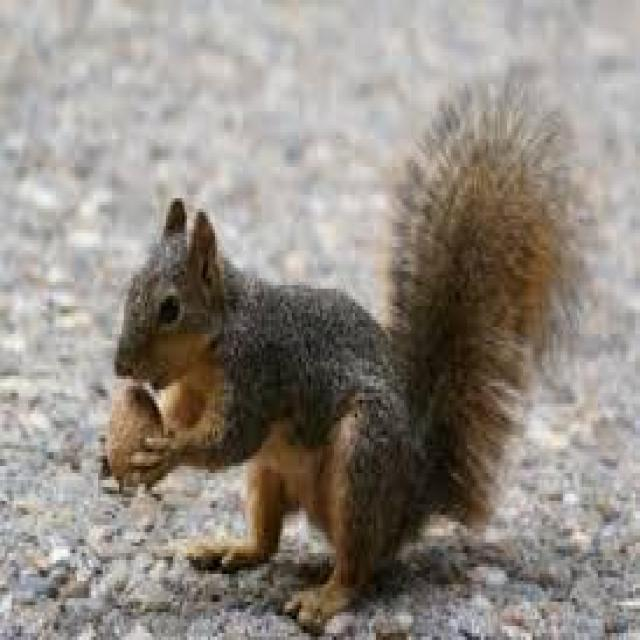license-plate: (77, 88, 557, 616)
